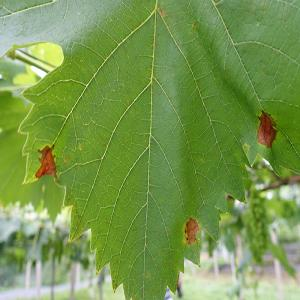Folha: (0, 0, 299, 298)
Fungo: (256, 109, 278, 148), (35, 143, 57, 179), (184, 217, 199, 245)
